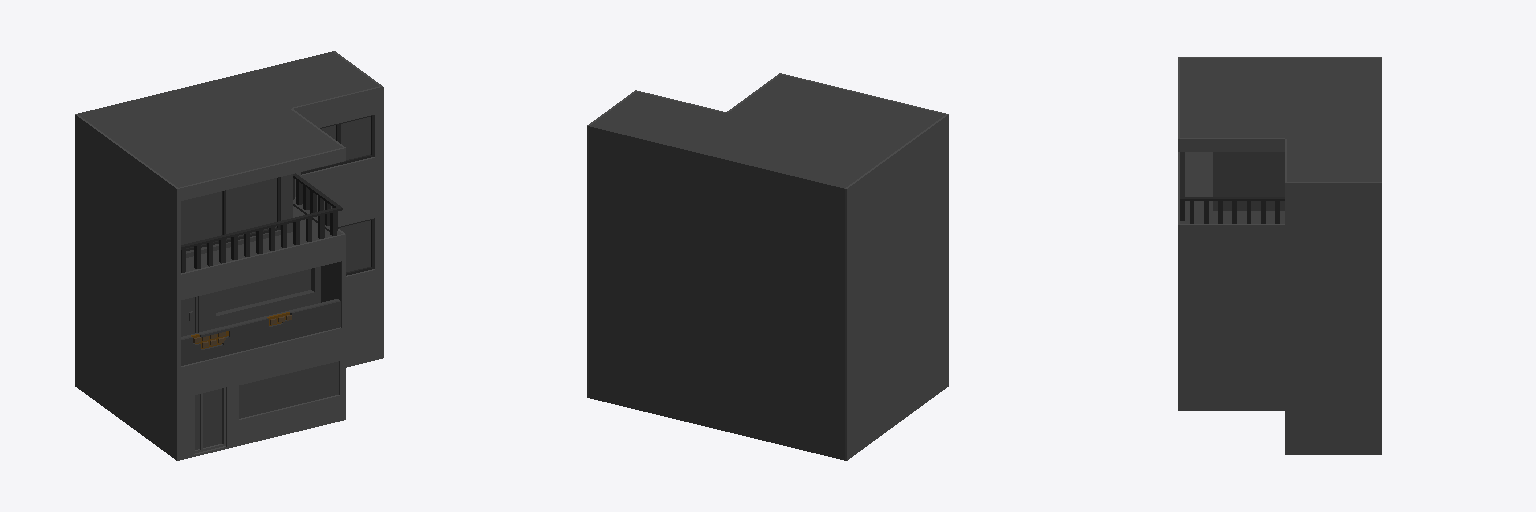
3 renders of one model, left to right at view 1: azimuth 30°, elevation 25°; view 2: azimuth 150°, elevation 25°; view 3: azimuth 270°, elevation 25°, orthographic.
Visible parts, largest first — view 1: object 1; view 2: object 1; view 3: object 1.
Part boxes in pixels (x1,y1,x2,y2): object 1: (75, 51, 383, 460); object 1: (587, 73, 948, 460); object 1: (1178, 57, 1381, 454).
Size of the model in its own units: 12.6 by 12.6 by 8.6.
Materials: 1 (1 with a texture image).